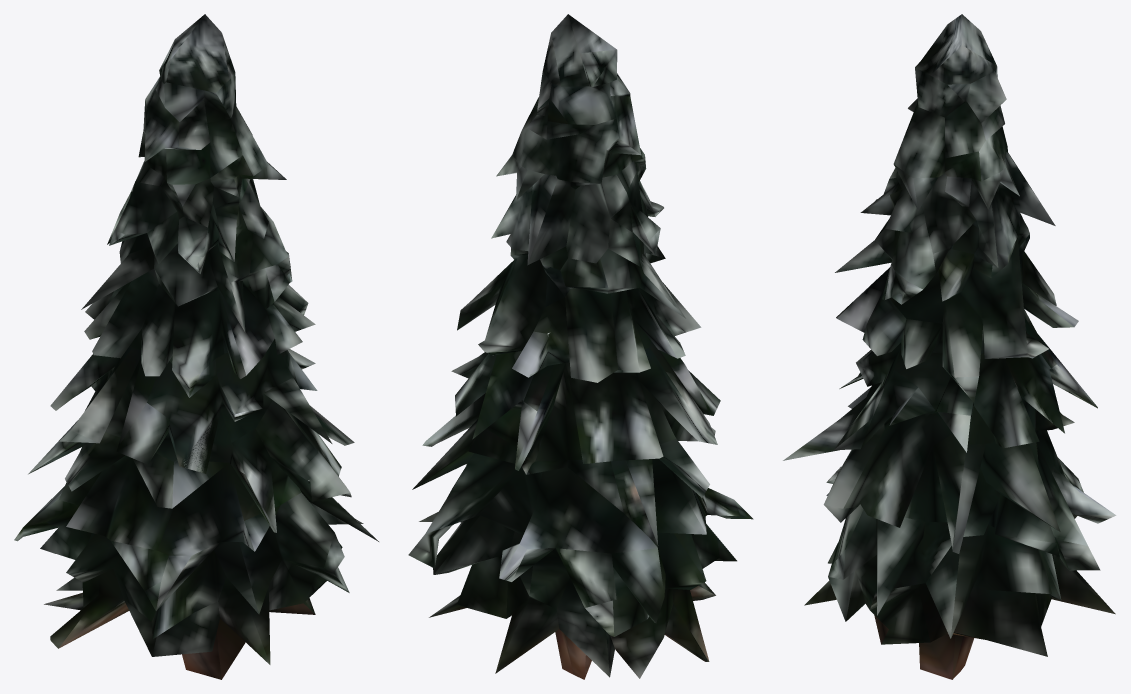
Rendered from dio_pine_l.glb.
3 views of the same model, side by side, from view 1: azimuth 30°, elevation 25°; view 2: azimuth 150°, elevation 25°; view 3: azimuth 270°, elevation 25° (orthographic).
Visible parts, largest first — view 1: tripo_part_0; view 2: tripo_part_0; view 3: tripo_part_0.
Part boxes in pixels (x1,y1,x2,y2): tripo_part_0: (14,14,378,679); tripo_part_0: (408,14,753,679); tripo_part_0: (783,14,1116,679).
Size of the model in its own units: 0.1234 by 0.2563 by 0.1175.
1 material, 1 textured.
